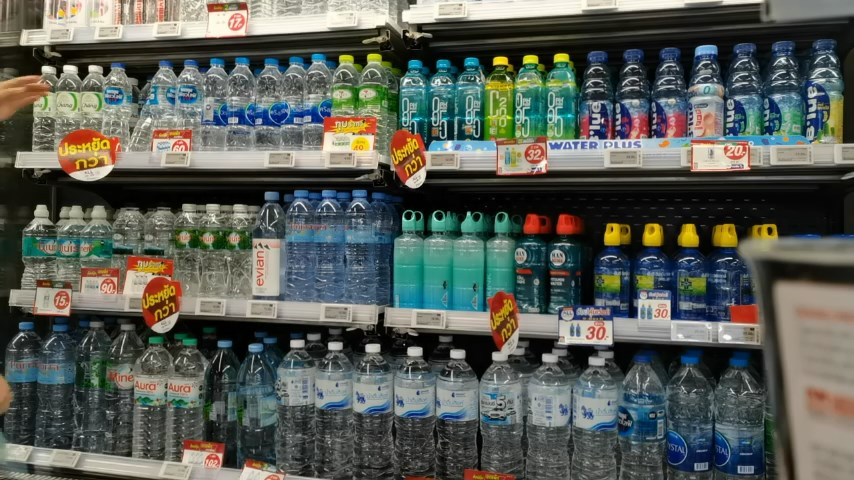1-1: (74, 319, 134, 454)
